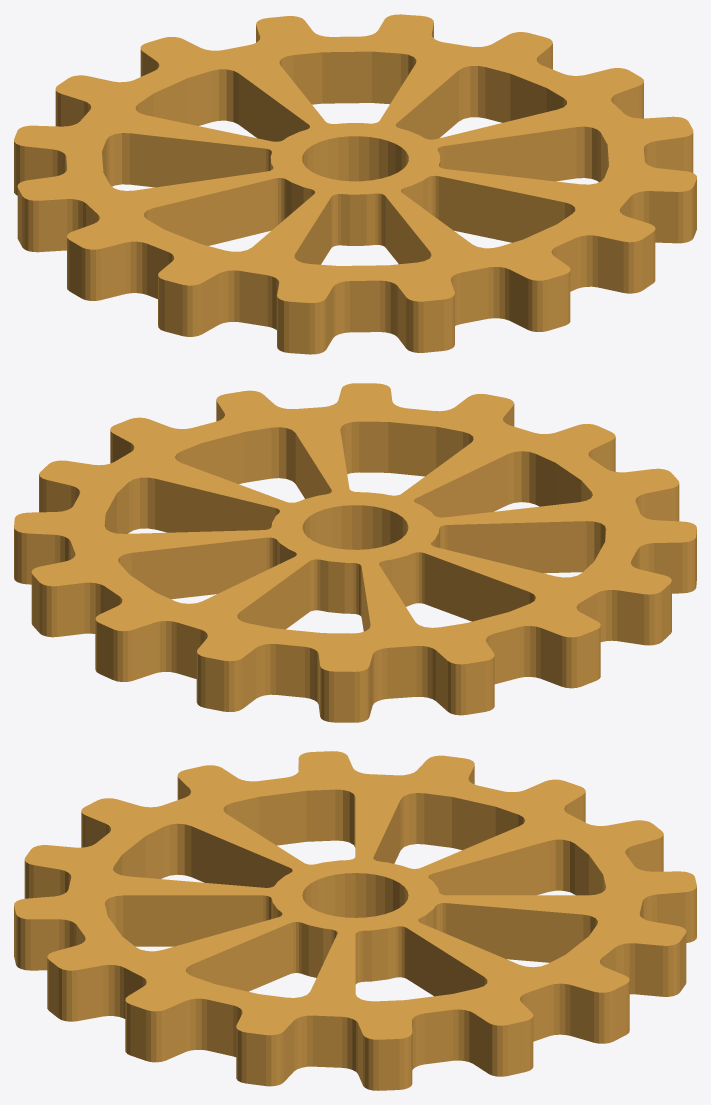
File: gear1.fbx
3 renders of one model, top to bottom at view 1: azimuth 30°, elevation 25°; view 2: azimuth 150°, elevation 25°; view 3: azimuth 270°, elevation 25°, orthographic.
Visible parts, largest first — view 1: Cylinder; view 2: Cylinder; view 3: Cylinder.
Part boxes in pixels (x1,y1,x2,y2): Cylinder: (14, 14, 696, 354); Cylinder: (14, 383, 696, 722); Cylinder: (14, 751, 696, 1090).
Bounding box in the file's own units: 591 × 48.77 × 591.
